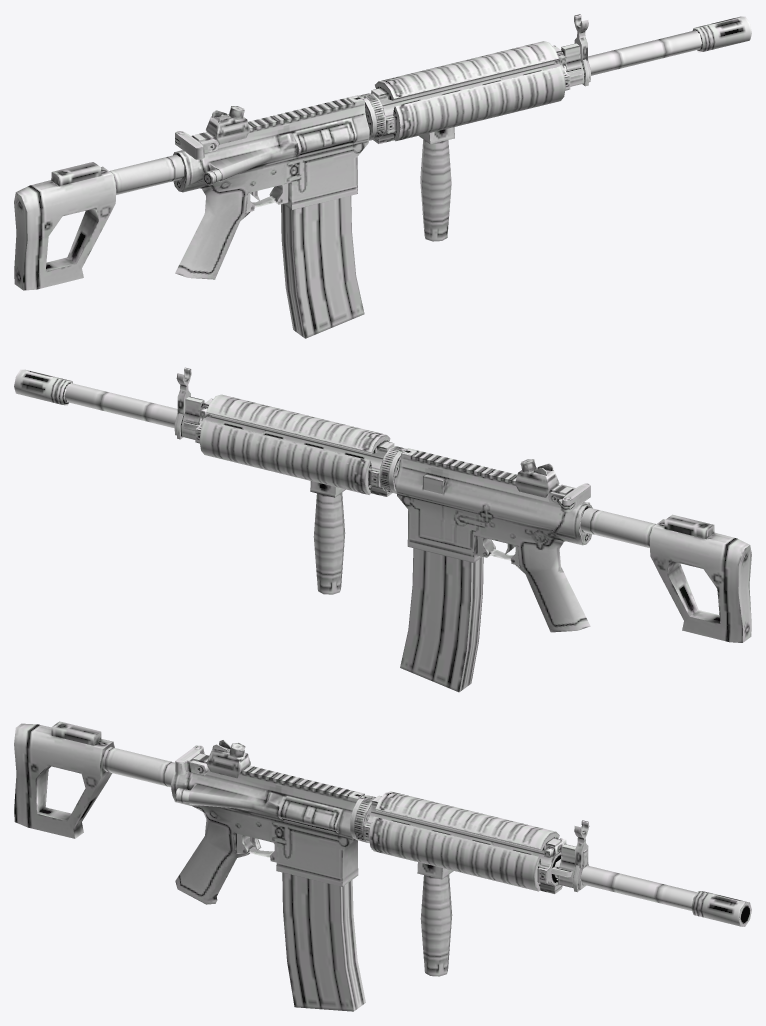
File: Weapon_AssaultRifle_ATac_Weapon_AssaultRifle_ATac_SkeletalMesh3_Weapon_AssaultRifle_ATac_Mercenary_LOD0.psk.glb
The picture shows the model from 3 angles, top to bottom: view 1: azimuth 30°, elevation 25°; view 2: azimuth 150°, elevation 25°; view 3: azimuth 330°, elevation 25°; orthographic projection.
Bounding box in the file's own units: 94.84 × 30.95 × 7.93.
Materials: 1 (1 with a texture image).
